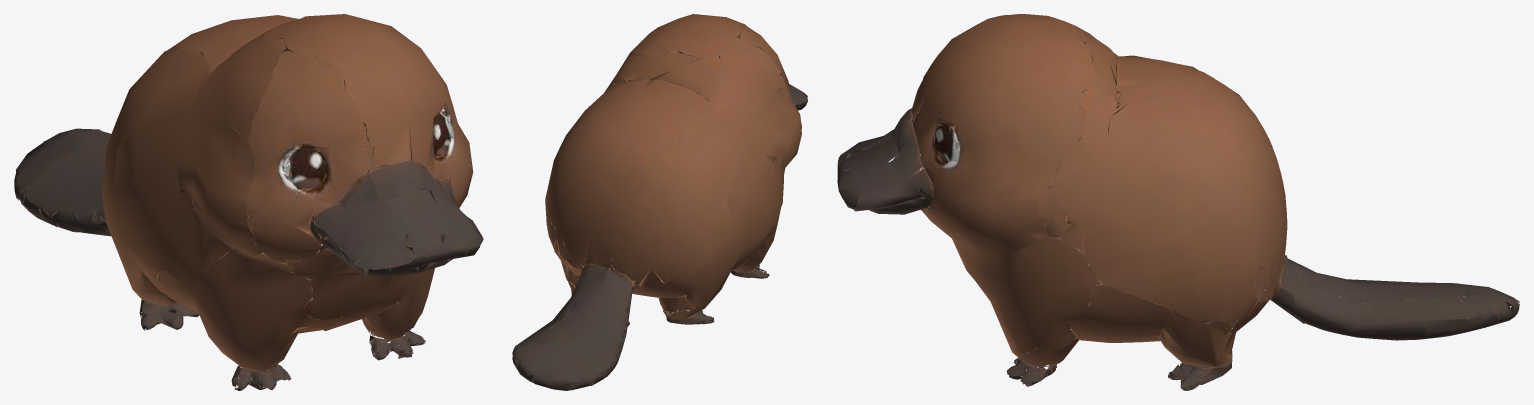
The model's file is platypus.glb.
The picture shows the model from 3 angles, left to right: view 1: azimuth 30°, elevation 25°; view 2: azimuth 150°, elevation 25°; view 3: azimuth 270°, elevation 25°; orthographic projection. The views are drawn at different scales.
Parts seen in each view (by area): view 1: model; view 2: model; view 3: model.
Part boxes in pixels (left/top/right/bottom): model: left=14, top=14, right=483, bottom=390; model: left=512, top=14, right=807, bottom=390; model: left=837, top=14, right=1519, bottom=390.
Size of the model in its own units: 0.8154 by 0.9925 by 1.9.
1 material, 1 textured.
